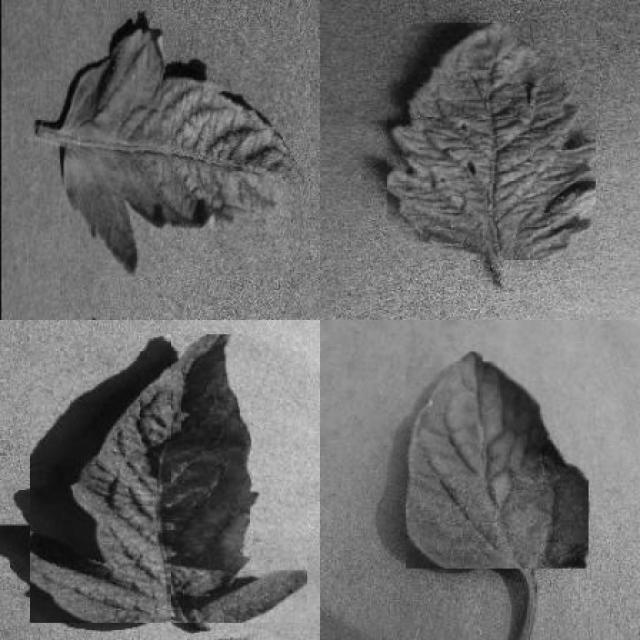Late Blight: (406, 352, 590, 568)
Mosaic Virus: (60, 28, 306, 278), (387, 23, 596, 260)
Spider Mites: (30, 334, 307, 622)
